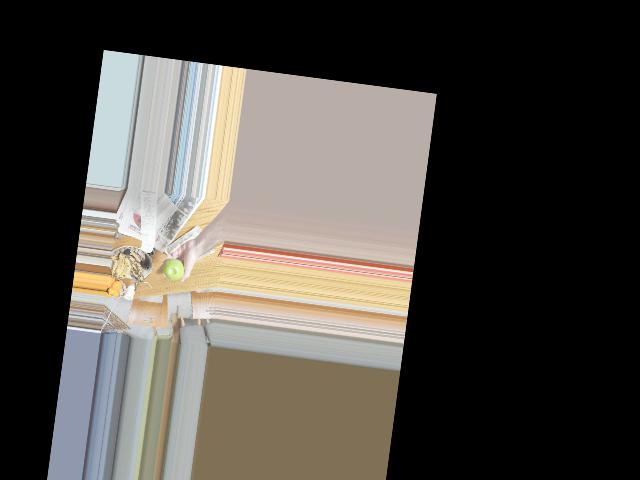apple: (162, 253, 185, 286)
